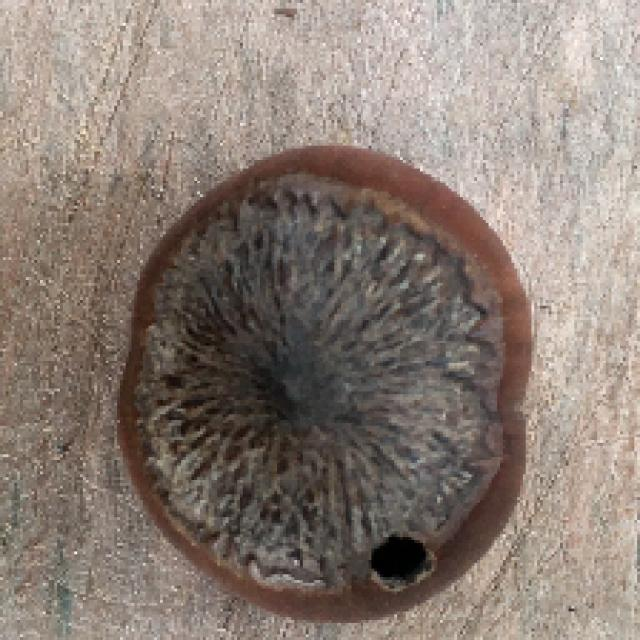damagedHazelnut: (98, 128, 541, 640)
